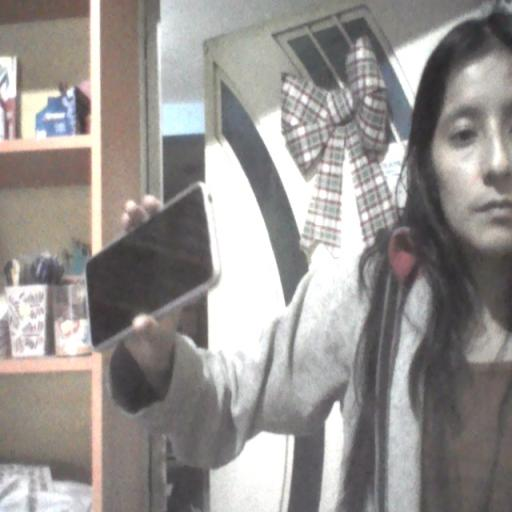phone: (85, 182, 219, 351)
